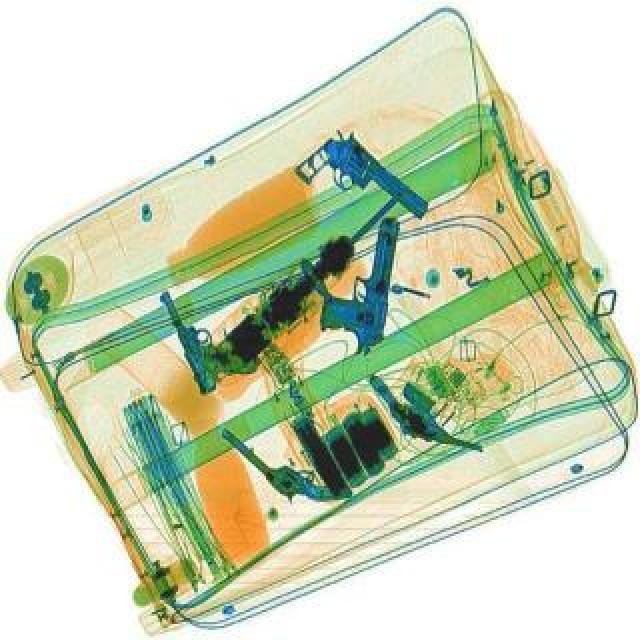gun: (292, 124, 436, 252), (220, 398, 356, 526), (158, 268, 262, 392), (312, 208, 400, 352), (354, 374, 494, 452)
